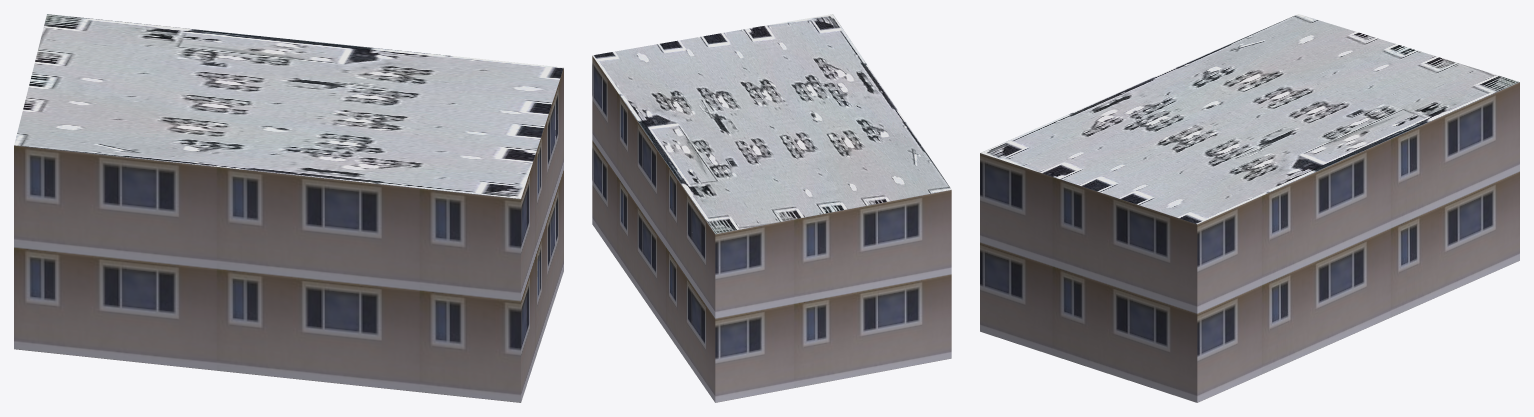
File: ResTex__1031.fbx
3 renders of one model, left to right at view 1: azimuth 30°, elevation 25°; view 2: azimuth 150°, elevation 25°; view 3: azimuth 270°, elevation 25°, orthographic. The views are drawn at different scales.
Parts seen in each view (by area): view 1: CityEngineMaterial_21_m, CityEngineMaterial_8_m; view 2: CityEngineMaterial_21_m, CityEngineMaterial_8_m; view 3: CityEngineMaterial_21_m, CityEngineMaterial_8_m.
Part boxes in pixels (box(x1,y1,x2,y2)): CityEngineMaterial_21_m: box(14, 68, 563, 402); CityEngineMaterial_8_m: box(14, 14, 563, 198); CityEngineMaterial_21_m: box(592, 56, 951, 402); CityEngineMaterial_8_m: box(592, 14, 951, 233); CityEngineMaterial_21_m: box(980, 82, 1519, 402); CityEngineMaterial_8_m: box(981, 14, 1519, 224).
Bounding box in the file's own units: 15.14 × 6 × 16.43.
2 materials, 2 textured.
